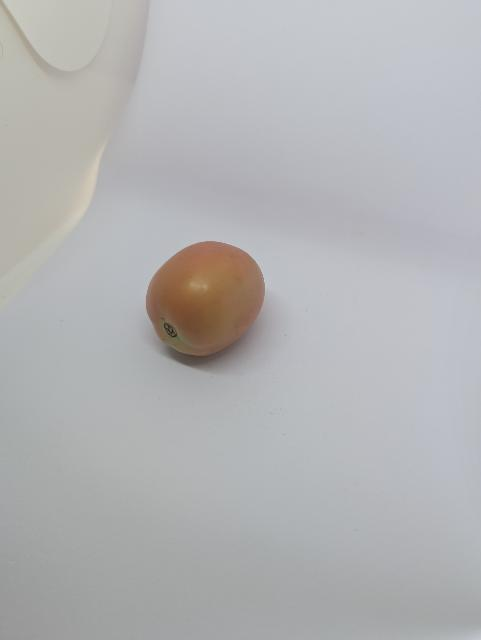turning: (136, 232, 276, 362)
